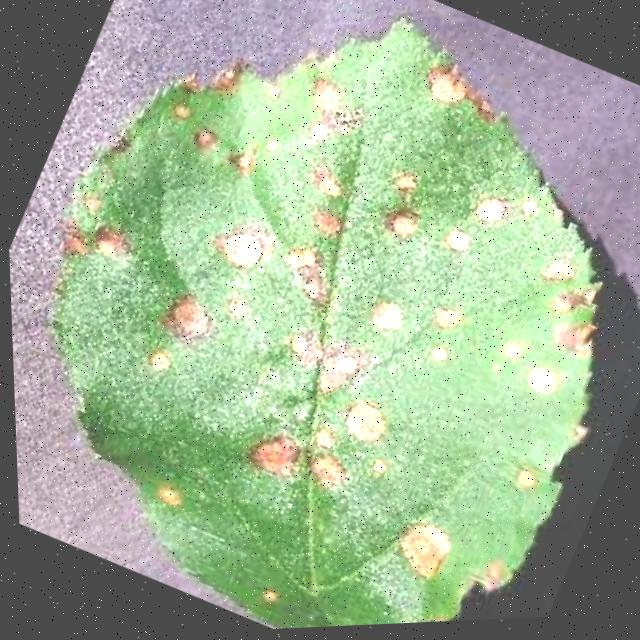black_rot: (263, 309, 382, 415), (278, 60, 389, 169), (39, 191, 149, 298), (472, 323, 585, 418), (397, 46, 509, 138), (259, 227, 354, 319), (378, 501, 468, 595), (523, 274, 612, 368), (223, 406, 315, 491), (112, 313, 198, 400), (281, 423, 366, 508), (326, 378, 406, 461), (150, 274, 227, 356), (201, 209, 280, 286), (490, 441, 557, 509), (532, 242, 603, 306), (294, 150, 360, 213), (204, 277, 266, 340), (217, 127, 277, 192), (361, 284, 420, 348), (373, 190, 434, 250), (154, 74, 210, 136), (464, 541, 518, 605), (297, 193, 357, 250), (435, 209, 489, 270), (179, 110, 233, 168), (424, 289, 480, 343), (376, 151, 433, 204), (462, 181, 516, 236), (417, 328, 461, 374)
